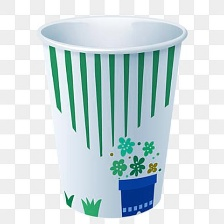paper_cup: (32, 10, 192, 222)
